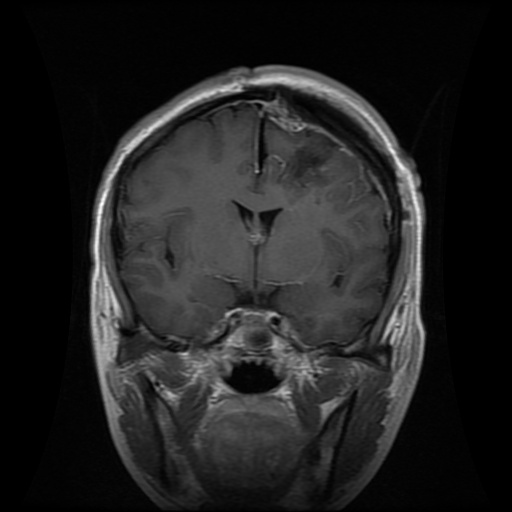glioma: (262, 128, 341, 192)
